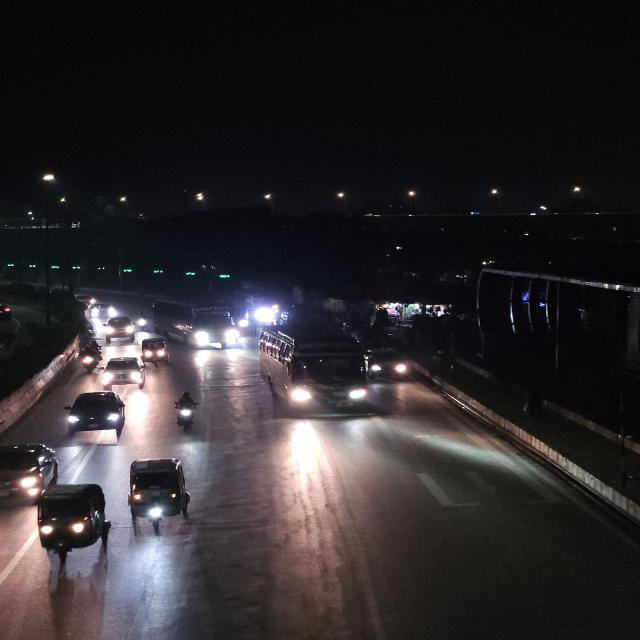bus: (256, 322, 370, 414), (150, 294, 240, 350)
car: (0, 440, 58, 500), (62, 390, 131, 437), (364, 346, 412, 382), (100, 357, 148, 392), (100, 315, 138, 344), (87, 301, 118, 321)
cng: (37, 483, 113, 564), (126, 456, 197, 537), (140, 338, 171, 368)
motorcycle: (170, 392, 203, 432), (76, 344, 100, 374)
